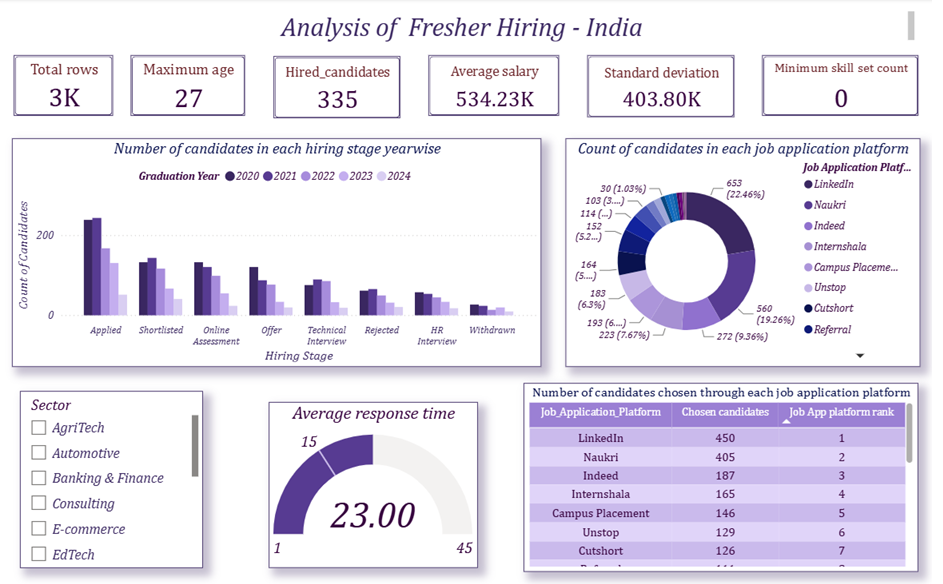

Layout of this report page (visuals, bound fields, positions):
{"tool":"powerbi","page":{"name":"Page 1","canvas":[1141,720],"ordinal":0},"visuals":[{"type":"clusteredColumnChart","title":"Number of candidates in each hiring stage yearwise","fields":{"Category":["freshers_hiring_india_dataset.Hiring_Stage"],"Y":["CountNonNull(freshers_hiring_india_dataset.Candidate_Id)"],"Series":["freshers_hiring_india_dataset.Graduation_Year"]},"box":[14.7,171.2,648.3,280.1],"z":0},{"type":"textbox","box":[14.7,11,1109.4,53.8],"z":1000},{"type":"cardVisual","fields":{"Data":["freshers_hiring_india_dataset.Total rows"]},"box":[0,52.6,155.3,108.9],"z":2000},{"type":"cardVisual","fields":{"Data":["freshers_hiring_india_dataset.Maximum age"]},"box":[143.1,52.6,174.9,108.9],"z":3000},{"type":"cardVisual","fields":{"Data":["freshers_hiring_india_dataset.Minimum skill set count"]},"box":[916.2,52.6,225.1,108.9],"z":4000},{"type":"gauge","title":"Average response time","fields":{"MaxValue":["freshers_hiring_india_dataset.Maximum response time"],"MinValue":["freshers_hiring_india_dataset.Minimum response time"],"Y":["freshers_hiring_india_dataset.Average response time"],"TargetValue":["freshers_hiring_india_dataset.Target value"]},"box":[329,494.2,255.6,203.1],"z":5000},{"type":"donutChart","title":"Count of candidates in each job application platform","fields":{"Category":["freshers_hiring_india_dataset.Job_Application_Platform"],"Y":["CountNonNull(freshers_hiring_india_dataset.Candidate_Id)"]},"box":[692.3,171.2,434.2,280.1],"z":6000},{"type":"slicer","fields":{"Values":["freshers_hiring_india_dataset.Sector"]},"box":[24.5,480.7,223.8,216.5],"z":7000},{"type":"cardVisual","fields":{"Data":["freshers_hiring_india_dataset.Average salary"]},"box":[507.6,52.6,194.5,108.9],"z":8000},{"type":"cardVisual","fields":{"Data":["freshers_hiring_india_dataset.Standard deviation"]},"box":[702.1,52.6,214.1,110.1],"z":9000},{"type":"cardVisual","fields":{"Data":["freshers_hiring_india_dataset.Hired_candidates"]},"box":[318,53.8,189.6,110.1],"z":10000},{"type":"tableEx","title":"Number of candidates chosen through each job application platform","fields":{"Values":["freshers_hiring_india_dataset.Job_Application_Platform","freshers_hiring_india_dataset.Chosen candidates","freshers_hiring_india_dataset.Job App platform rank"]},"box":[641,470.9,483.2,231.2],"z":11000}]}

Visuals, with their boxes in screenshot pixels (x1, y1, x2, y2), scaled from the page's 1141x720 canvas onto the 943x584 screenshot:
"Number of candidates in each hiring stage yearwise" clusteredColumnChart: bbox(12, 139, 548, 366)
textbox: bbox(12, 9, 929, 53)
cardVisual - freshers_hiring_india_dataset.Total rows: bbox(0, 43, 128, 131)
cardVisual - freshers_hiring_india_dataset.Maximum age: bbox(118, 43, 263, 131)
cardVisual - freshers_hiring_india_dataset.Minimum skill set count: bbox(757, 43, 942, 131)
"Average response time" gauge: bbox(272, 401, 483, 566)
"Count of candidates in each job application platform" donutChart: bbox(572, 139, 931, 366)
slicer - freshers_hiring_india_dataset.Sector: bbox(20, 390, 205, 566)
cardVisual - freshers_hiring_india_dataset.Average salary: bbox(420, 43, 580, 131)
cardVisual - freshers_hiring_india_dataset.Standard deviation: bbox(580, 43, 757, 132)
cardVisual - freshers_hiring_india_dataset.Hired_candidates: bbox(263, 44, 420, 133)
"Number of candidates chosen through each job application platform" tableEx: bbox(530, 382, 929, 569)
